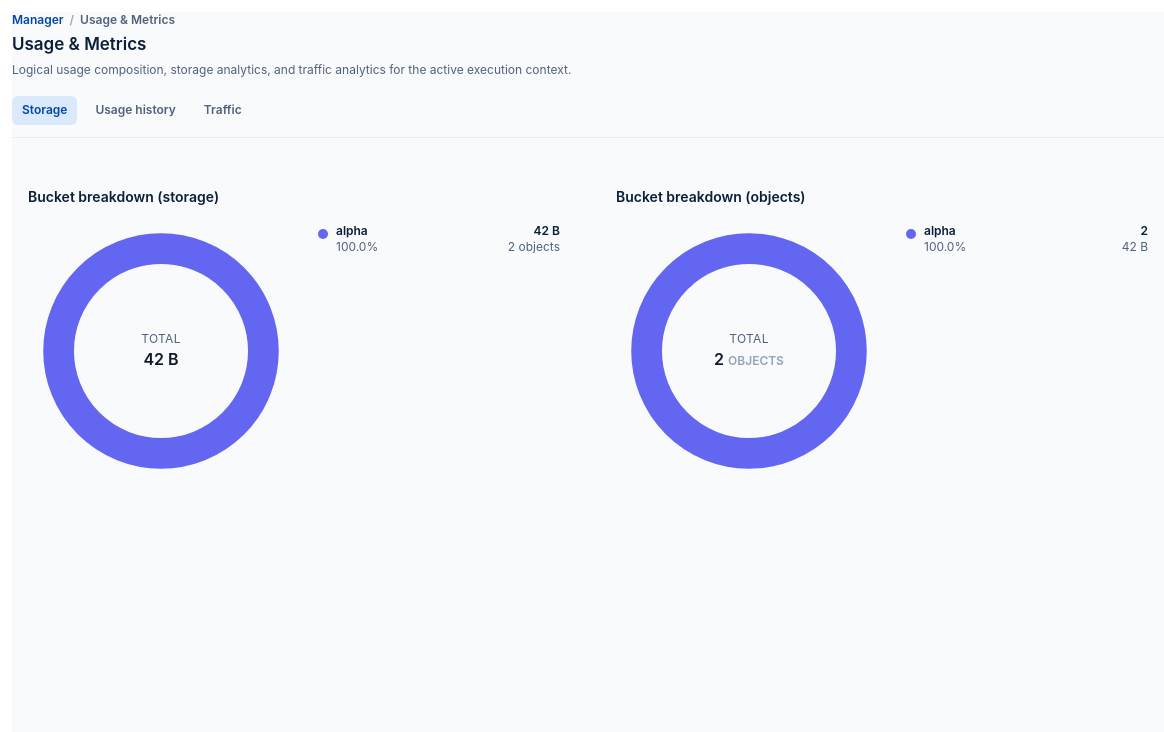
ManagerMetricsPage › renders usage history trends for eligible account contexts
Click the tab "Usage history".
click(136, 110)  # box left=85, top=96, right=186, bottom=124
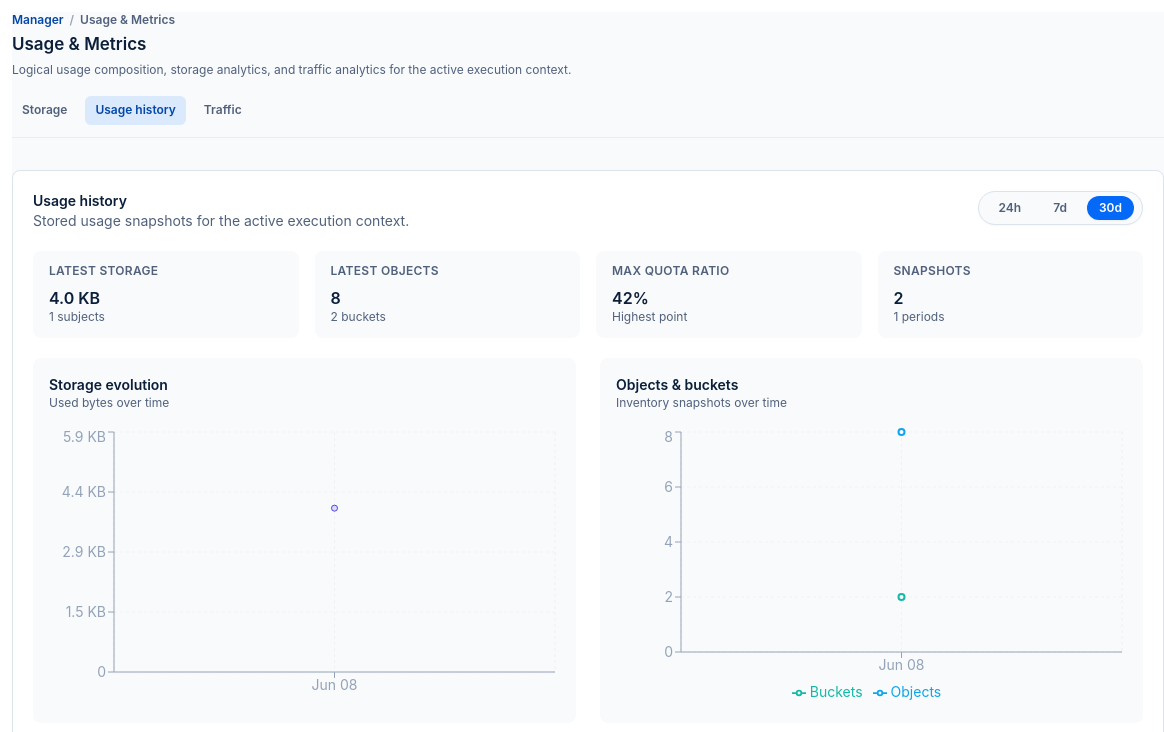
Expected: the text "Latest storage" is shown, left=49, top=263, right=158, bottom=278
Expected: the text "4.0 KB" is shown, left=49, top=288, right=100, bottom=308
